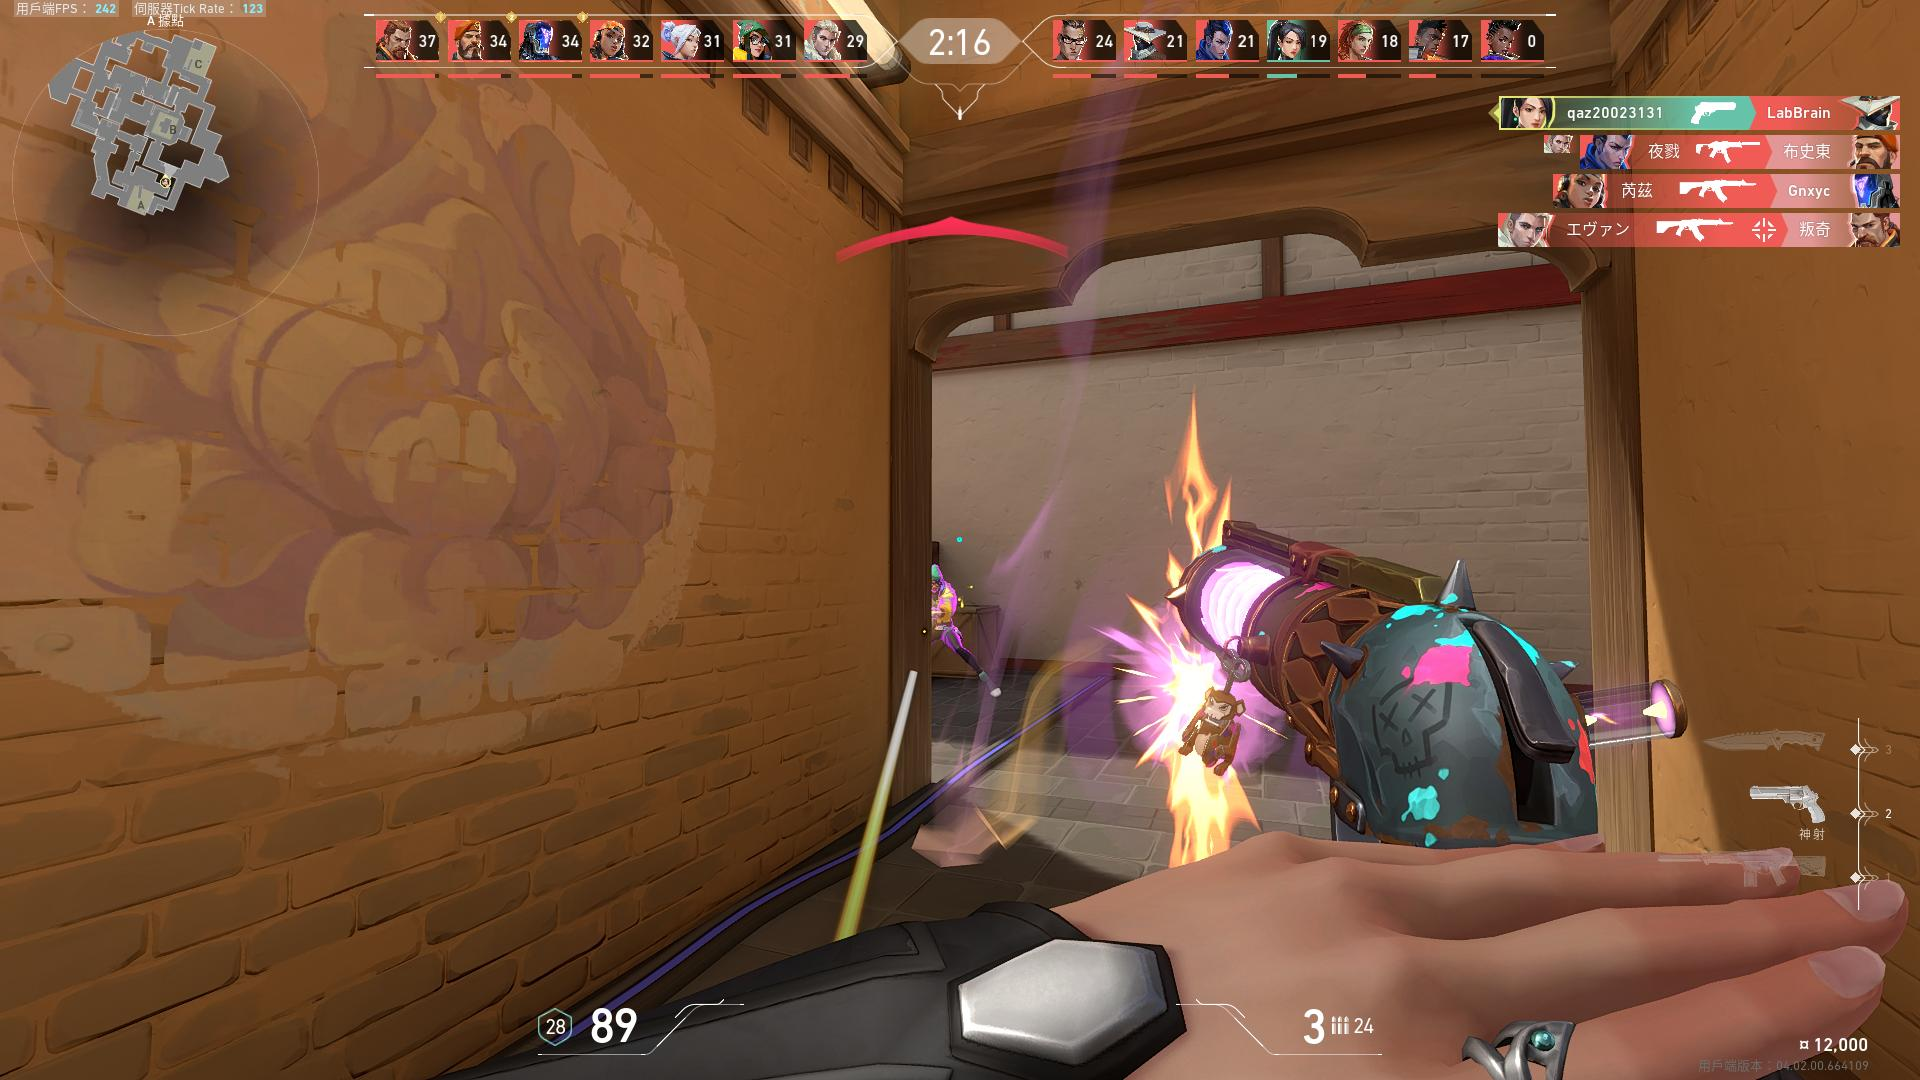enemyBody: (931, 597, 949, 628)
enemyHead: (928, 579, 944, 593)
